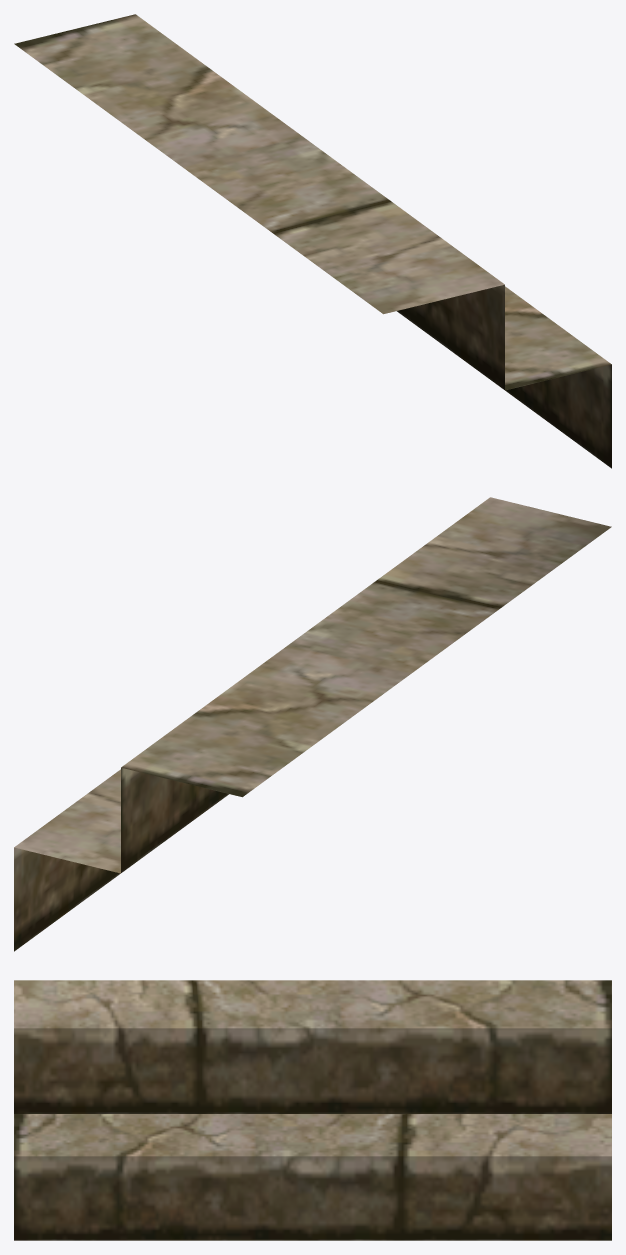
The model's file is OVERHILL_A_01_OBJECT225.fbx.
3 renders of one model, top to bottom at view 1: azimuth 30°, elevation 25°; view 2: azimuth 150°, elevation 25°; view 3: azimuth 270°, elevation 25°, orthographic. The views are drawn at different scales.
Visible parts, largest first — view 1: OVERHILL_A_01_OBJECT225; view 2: OVERHILL_A_01_OBJECT225; view 3: OVERHILL_A_01_OBJECT225.
Part boxes in pixels (box(x1,y1,x2,y2)): OVERHILL_A_01_OBJECT225: box(14, 14, 611, 468); OVERHILL_A_01_OBJECT225: box(14, 497, 611, 951); OVERHILL_A_01_OBJECT225: box(14, 980, 611, 1240).
Bounding box in the file's own units: 8552 × 7518 × 23945.
Materials: 1 (1 with a texture image).
